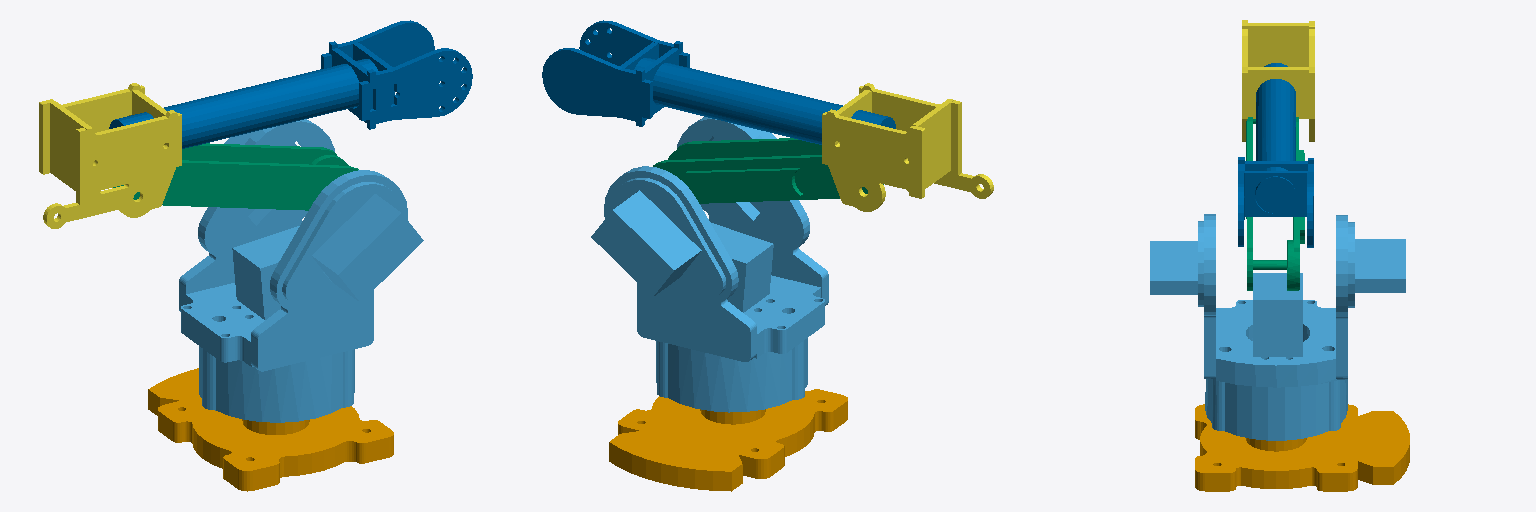
URDF robot description (myrobot):
<?xml version="1.0" ?>
<!-- =================================================================================== -->
<!-- |    This document was autogenerated by xacro from myrobot.xacro                  | -->
<!-- |    EDITING THIS FILE BY HAND IS NOT RECOMMENDED                                 | -->
<!-- =================================================================================== -->
<!--INCLUDES-->
<robot name="myrobot" xmlns:xacro="http://www.ros.org/wiki/xacro">
  <!--MACRO DE ARTICULACIONES-->
  <!--MACRO DE LOS BRAZOS DEL ROBOT BASADOS EN UN ARCHIVO MESH FILE CREADO CON AUTOCAD Y BLENDER-->
  <!--FIN DE INCLUDES-->
  <link name="base_link">
    <inertial>
      <mass value="1000"/>
      <origin rpy="0 0 0" xyz="0 0 0"/>
      <inertia ixx="0" ixy="0" ixz="0" iyy="0" iyz="0" izz="9.655"/>
    </inertial>
    <collision>
      <origin rpy="0 0 0" xyz="0 0 0"/>
      <geometry>
        <mesh filename="package://sainsmart_robot_description_pkg/meshes/baserobot.dae" scale="0.1 0.1 0.1"/>
      </geometry>
    </collision>
    <visual>
      <origin rpy="0 0 0" xyz="0 0 0"/>
      <geometry>
        <mesh filename="package://sainsmart_robot_description_pkg/meshes/baserobot.dae" scale="0.1 0.1 0.1"/>
      </geometry>
      <material name="light_black"/>
    </visual>
  </link>
  <joint name="base_link_link01" type="revolute">
    <axis xyz="0 0 1"/>
    <limit effort="1000" lower="-3.14" upper="3.14" velocity="0.5"/>
    <origin rpy="0 0 0" xyz="0 0 0"/>
    <parent link="base_link"/>
    <child link="link_01"/>
  </joint>
  <transmission name="trans_base_link_link01">
    <type>transmission_interface/SimpleTransmission</type>
    <joint name="base_link_link01">
      <hardwareInterface>hardware_interface/EffortJointInterface</hardwareInterface>
    </joint>
    <actuator name="motor_base_link_link01">
      <hardwareInterface>hardware_interface/EffortJointInterface</hardwareInterface>
      <mechanicalReduction>1</mechanicalReduction>
    </actuator>
  </transmission>
  <!--<transmission name="trans_base_link_link01">
          <type>transmission_interface/SimpleTransmission</type>
      	  <joint name="base_link_link01">
             <hardwareInterface>EffortJointInterface</hardwareInterface>
      	  </joint>
          <actuator name="motor_base_link_link01">
	     <hardwareInterface>EffortJointInterface</hardwareInterface>
	     <mechanicalReduction>1</mechanicalReduction>
          </actuator>
	</transmission>-->
  <link name="link_01">
    <inertial>
      <mass value="157.633"/>
      <origin rpy="0 0 0" xyz="0 0 6"/>
      <inertia ixx="13.235" ixy="0" ixz="0" iyy="13.235" iyz="0" izz="9.655"/>
    </inertial>
    <collision>
      <origin rpy="0 0 0" xyz="0 0 6"/>
      <geometry>
        <mesh filename="package://sainsmart_robot_description_pkg/meshes/pieza1.dae" scale="0.1 0.1 0.1"/>
      </geometry>
    </collision>
    <visual>
      <origin rpy="0 0 0" xyz="0 0 6"/>
      <geometry>
        <mesh filename="package://sainsmart_robot_description_pkg/meshes/pieza1.dae" scale="0.1 0.1 0.1"/>
      </geometry>
      <material name="light_black"/>
    </visual>
  </link>
  <joint name="base_link01__link02" type="revolute">
    <axis xyz="0 1 0"/>
    <limit effort="1000" lower="-3.14" upper="3.14" velocity="0.5"/>
    <origin rpy="0 0 0" xyz="2.9 0 11"/>
    <parent link="link_01"/>
    <child link="link_02"/>
  </joint>
  <transmission name="trans_base_link01__link02">
    <type>transmission_interface/SimpleTransmission</type>
    <joint name="base_link01__link02">
      <hardwareInterface>hardware_interface/EffortJointInterface</hardwareInterface>
    </joint>
    <actuator name="motor_base_link01__link02">
      <hardwareInterface>hardware_interface/EffortJointInterface</hardwareInterface>
      <mechanicalReduction>1</mechanicalReduction>
    </actuator>
  </transmission>
  <!--<transmission name="trans_base_link01_link02">
          <type>transmission_interface/SimpleTransmission</type>
      	  <joint name="base_link01__link02">
             <hardwareInterface>EffortJointInterface</hardwareInterface>
      	  </joint>
      	  <actuator name="motor_base_link01_link02">
	     <hardwareInterface>EffortJointInterface</hardwareInterface>
	     <mechanicalReduction>1</mechanicalReduction>
          </actuator>
	</transmission>-->
  <link name="link_02">
    <inertial>
      <mass value="157.633"/>
      <origin rpy="0 0 0" xyz="0 0 0"/>
      <inertia ixx="13.235" ixy="0" ixz="0" iyy="13.235" iyz="0" izz="9.655"/>
    </inertial>
    <collision>
      <origin rpy="0 0 0" xyz="0 0 0"/>
      <geometry>
        <mesh filename="package://sainsmart_robot_description_pkg/meshes/pieza3.dae" scale="0.1 0.1 0.1"/>
      </geometry>
    </collision>
    <visual>
      <origin rpy="0 0 0" xyz="0 0 0"/>
      <geometry>
        <mesh filename="package://sainsmart_robot_description_pkg/meshes/pieza3.dae" scale="0.1 0.1 0.1"/>
      </geometry>
      <material name="light_black"/>
    </visual>
  </link>
  <joint name="base_link01__link05" type="revolute">
    <axis xyz="0 1 0"/>
    <limit effort="1000" lower="-3.14" upper="3.14" velocity="0.5"/>
    <origin rpy="0 0 0" xyz="-11 0 3"/>
    <parent link="link_02"/>
    <child link="link_05"/>
  </joint>
  <transmission name="trans_base_link01__link05">
    <type>transmission_interface/SimpleTransmission</type>
    <joint name="base_link01__link05">
      <hardwareInterface>hardware_interface/EffortJointInterface</hardwareInterface>
    </joint>
    <actuator name="motor_base_link01__link05">
      <hardwareInterface>hardware_interface/EffortJointInterface</hardwareInterface>
      <mechanicalReduction>1</mechanicalReduction>
    </actuator>
  </transmission>
  <!--<transmission name="trans_base_link01_link05">
          <type>transmission_interface/SimpleTransmission</type>
      	  <joint name="base_link01__link05">
             <hardwareInterface>EffortJointInterface</hardwareInterface>
      	  </joint>
          <actuator name="motor_base_link01_link05">
	     <hardwareInterface>EffortJointInterface</hardwareInterface>
	     <mechanicalReduction>1</mechanicalReduction>
          </actuator>
	</transmission>-->
  <link name="link_05">
    <inertial>
      <mass value="157.633"/>
      <origin rpy="0 0 0" xyz="0 0 0"/>
      <inertia ixx="13.235" ixy="0" ixz="0" iyy="13.235" iyz="0" izz="9.655"/>
    </inertial>
    <collision>
      <origin rpy="0 0 0" xyz="0 0 0"/>
      <geometry>
        <mesh filename="package://sainsmart_robot_description_pkg/meshes/pieza6.dae" scale="0.1 0.1 0.1"/>
      </geometry>
    </collision>
    <visual>
      <origin rpy="0 0 0" xyz="0 0 0"/>
      <geometry>
        <mesh filename="package://sainsmart_robot_description_pkg/meshes/pieza6.dae" scale="0.1 0.1 0.1"/>
      </geometry>
      <material name="light_black"/>
    </visual>
  </link>
  <joint name="base_link05__link06" type="revolute">
    <axis xyz="1 0 0"/>
    <limit effort="1000" lower="-3.14" upper="3.14" velocity="0.5"/>
    <origin rpy="0 0 0" xyz="0 0 2"/>
    <parent link="link_05"/>
    <child link="link_06"/>
  </joint>
  <transmission name="trans_base_link05__link06">
    <type>transmission_interface/SimpleTransmission</type>
    <joint name="base_link05__link06">
      <hardwareInterface>hardware_interface/EffortJointInterface</hardwareInterface>
    </joint>
    <actuator name="motor_base_link05__link06">
      <hardwareInterface>hardware_interface/EffortJointInterface</hardwareInterface>
      <mechanicalReduction>1</mechanicalReduction>
    </actuator>
  </transmission>
  <!--<transmission name="trans_base_link05_link06">
          <type>transmission_interface/SimpleTransmission</type>
      	  <joint name="base_link05__link06">
             <hardwareInterface>EffortJointInterface</hardwareInterface>
      	  </joint>
          <actuator name="motor_base_link05_link06">
	     <hardwareInterface>EffortJointInterface</hardwareInterface>
	     <mechanicalReduction>1</mechanicalReduction>
           </actuator>
	</transmission>-->
  <link name="link_06">
    <inertial>
      <mass value="157.633"/>
      <origin rpy="0 0 3.14" xyz="0 0 0"/>
      <inertia ixx="13.235" ixy="0" ixz="0" iyy="13.235" iyz="0" izz="9.655"/>
    </inertial>
    <collision>
      <origin rpy="0 0 3.14" xyz="0 0 0"/>
      <geometry>
        <mesh filename="package://sainsmart_robot_description_pkg/meshes/pieza6buena.dae" scale="0.1 0.1 0.1"/>
      </geometry>
    </collision>
    <visual>
      <origin rpy="0 0 3.14" xyz="0 0 0"/>
      <geometry>
        <mesh filename="package://sainsmart_robot_description_pkg/meshes/pieza6buena.dae" scale="0.1 0.1 0.1"/>
      </geometry>
      <material name="light_black"/>
    </visual>
  </link>
  <!-- ros_control plugin 
	<gazebo>
	      <plugin name="gazebo_ros_control" filename="libgazebo_ros_control.so">
                 <robotNamespace>/myrobot</robotNamespace>
              </plugin>
        </gazebo>-->
</robot>

--- Render facts (derived) ---
3 views of the same robot in one strip: view 1: azimuth 30°, elevation 25°; view 2: azimuth 150°, elevation 25°; view 3: azimuth 270°, elevation 25° (orthographic).
Robot: myrobot — 5 links, 4 joints (4 revolute); root link base_link; default pose: every joint at zero.
Visible links, largest first — view 1: link_01, link_06, link_05, base_link, link_02; view 2: link_01, link_06, base_link, link_05, link_02; view 3: link_01, base_link, link_06, link_05, link_02.
Link boxes in pixels (x1,y1,x2,y2): link_01: [179, 119, 423, 422]; link_06: [109, 20, 472, 148]; link_05: [39, 83, 181, 228]; base_link: [148, 368, 393, 491]; link_02: [113, 143, 358, 210]; link_01: [591, 117, 828, 412]; link_06: [542, 20, 895, 144]; base_link: [609, 389, 847, 491]; link_05: [822, 83, 993, 211]; link_02: [653, 138, 883, 203]; link_01: [1150, 214, 1405, 440]; base_link: [1195, 404, 1409, 491]; link_06: [1238, 63, 1313, 247]; link_05: [1242, 20, 1314, 141]; link_02: [1246, 117, 1304, 290].
Size in the robot's own frame: 21.88 by 12.83 by 18.55 metres.
5 mesh visuals loaded from 5 distinct referenced files (5 Collada DAE).